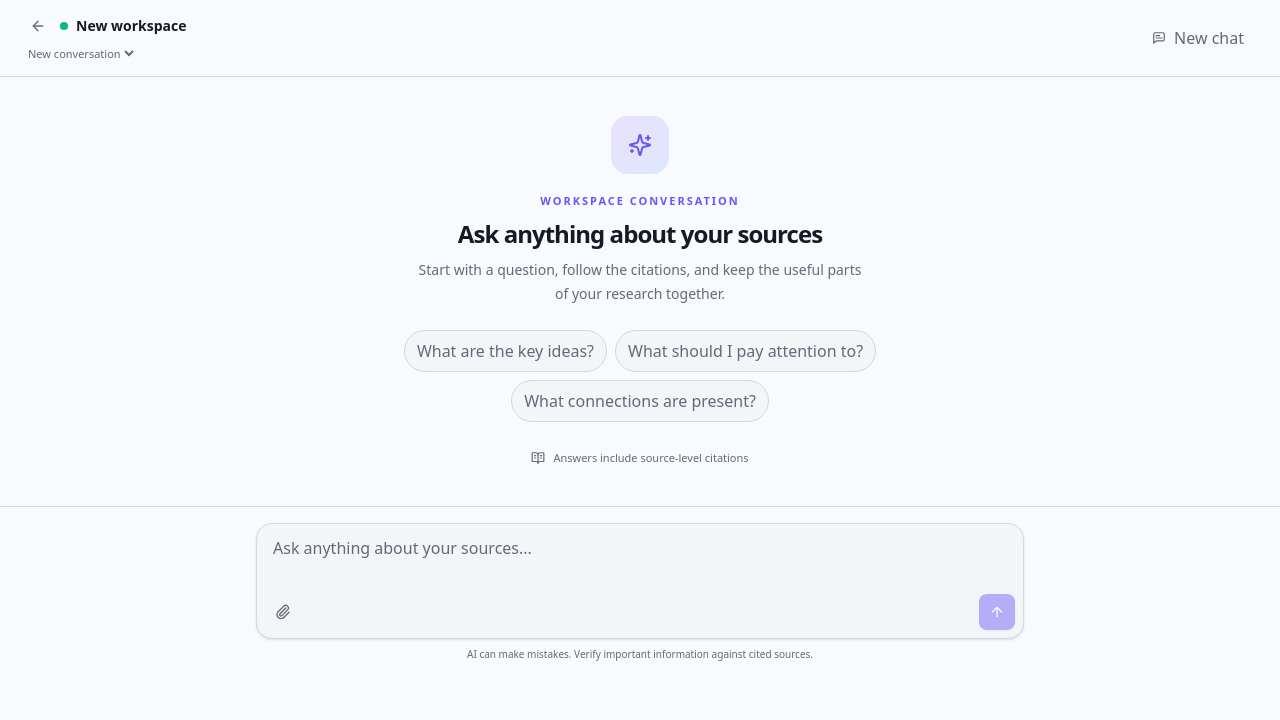
Test: ConversationPanel › keeps the main conversation focused and exposes the composer accessibly
Expected: the heading "New workspace" is shown, [76,16,186,36]
Expected: the dropdown named "Conversations" is shown, [24,45,137,62]
Click the button "What are the key ideas?" at (505, 350), box [404,330,607,372]
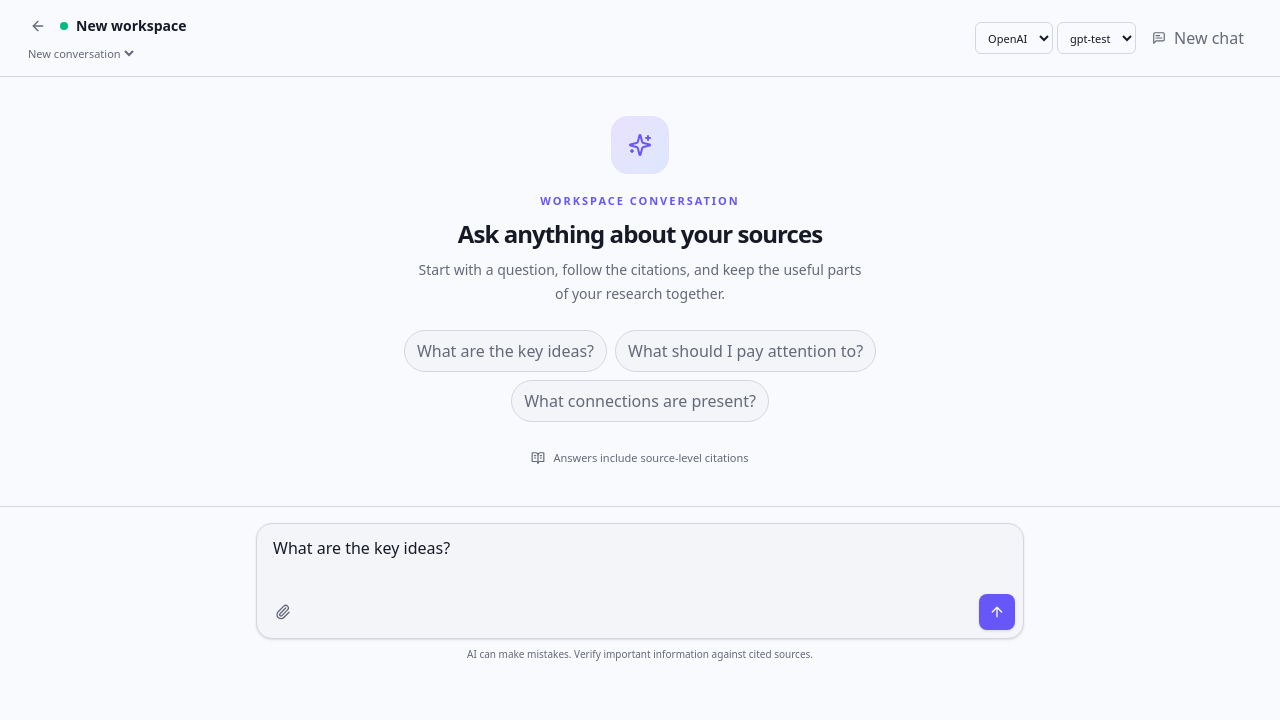
Expected: the text box named "Ask about your sources" holds "What are the key ideas?", [265,532,1015,588]
Expected: the button named "Send message" is enabled, [979,594,1015,630]
